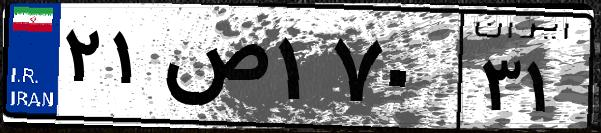0: (385, 28, 445, 110)
1: (270, 28, 330, 110), (525, 38, 570, 115), (110, 28, 158, 98)
2: (57, 26, 110, 100)
3: (475, 38, 525, 113)
7: (330, 28, 385, 110)
ص: (158, 20, 270, 120)
